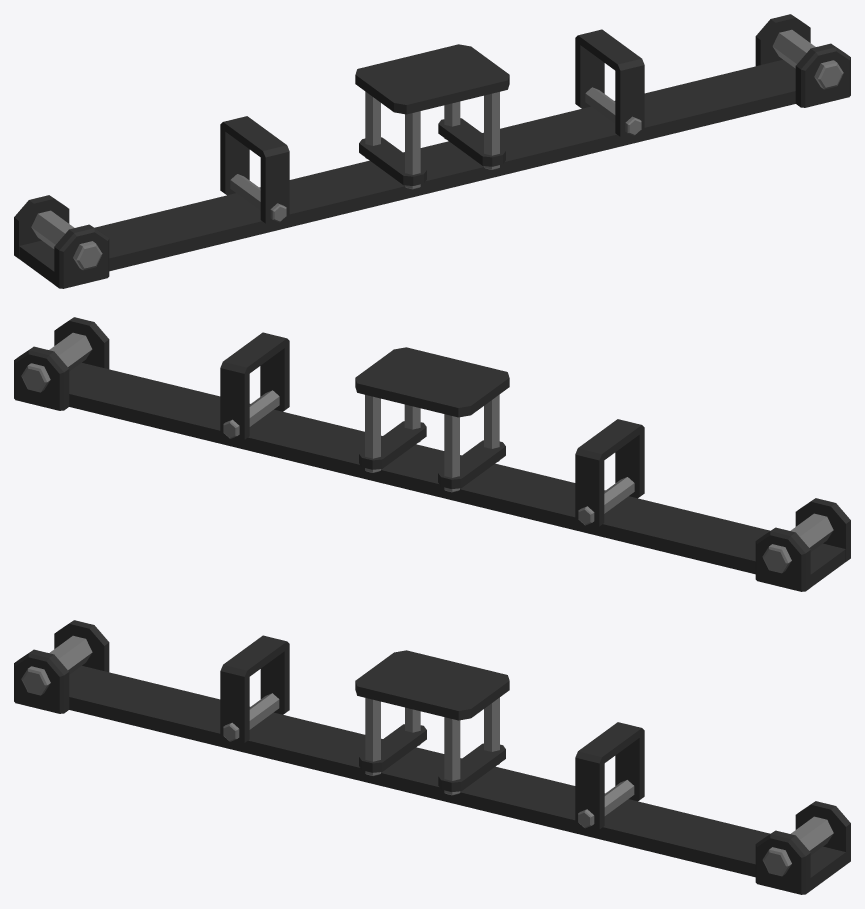
File: TanHuang_GangBan_2X9_on.FBX
3 renders of one model, top to bottom at view 1: azimuth 30°, elevation 25°; view 2: azimuth 150°, elevation 25°; view 3: azimuth 330°, elevation 25°, orthographic.
Visible parts, largest first — view 1: Box076; view 2: Box076; view 3: Box076.
Boxes of the visible parts, box(x1,y1,x2,y2) form: Box076: box(14, 14, 850, 288); Box076: box(14, 317, 850, 591); Box076: box(14, 620, 850, 894).
Size of the model in its own units: 9 by 1.09 by 1.11.
